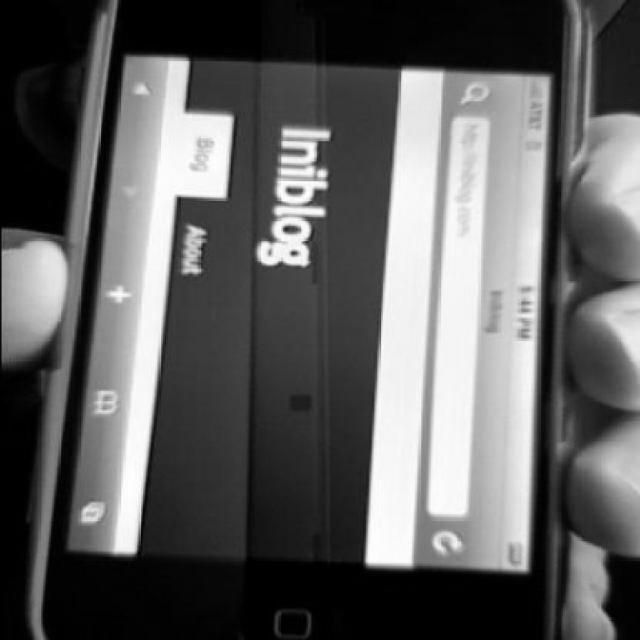fake: (24, 0, 612, 628)
